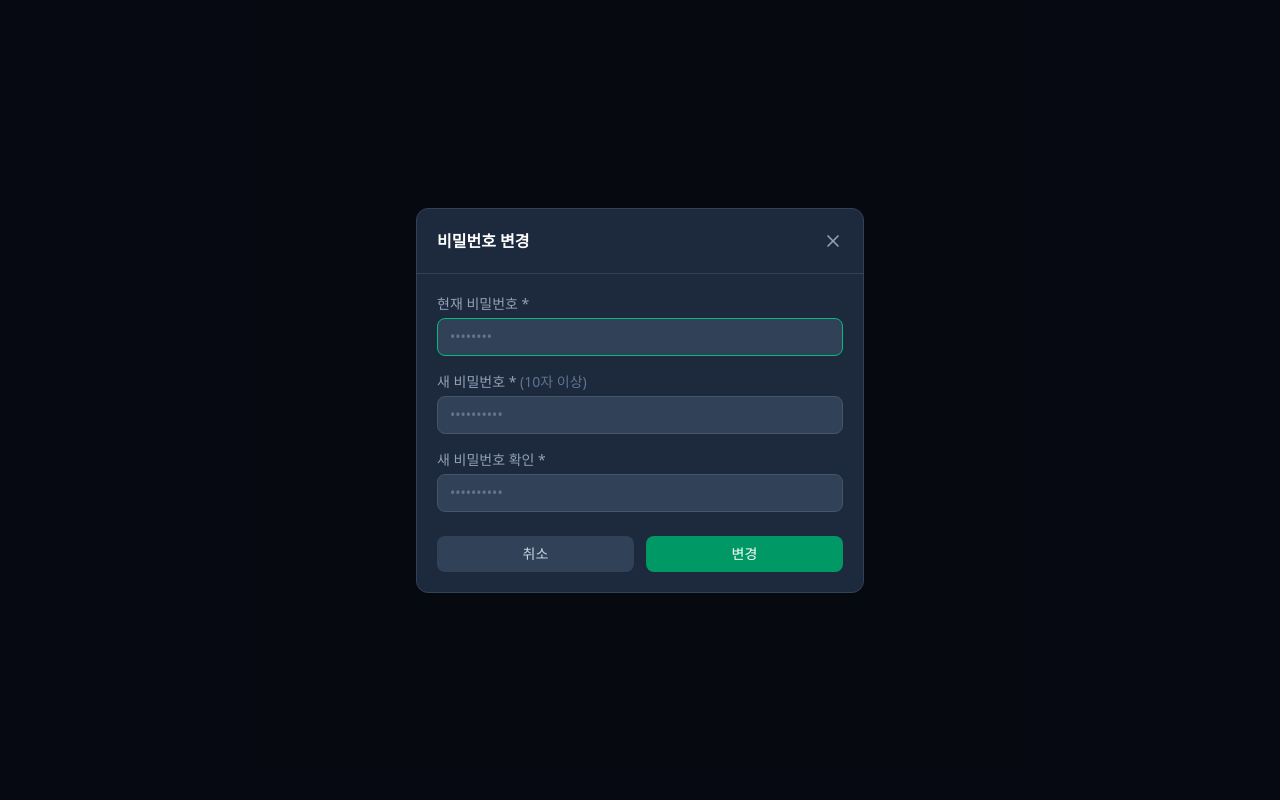
it: ChangePasswordModal › 클라이언트 검증 — 서버를 호출하기 전에 막는다 › 새 비밀번호가 10자 미만이면 요청하지 않는다
Type "admin1234" into the password field labelled "현재 비밀번호 *" at (640, 336), box [437,318,843,356]
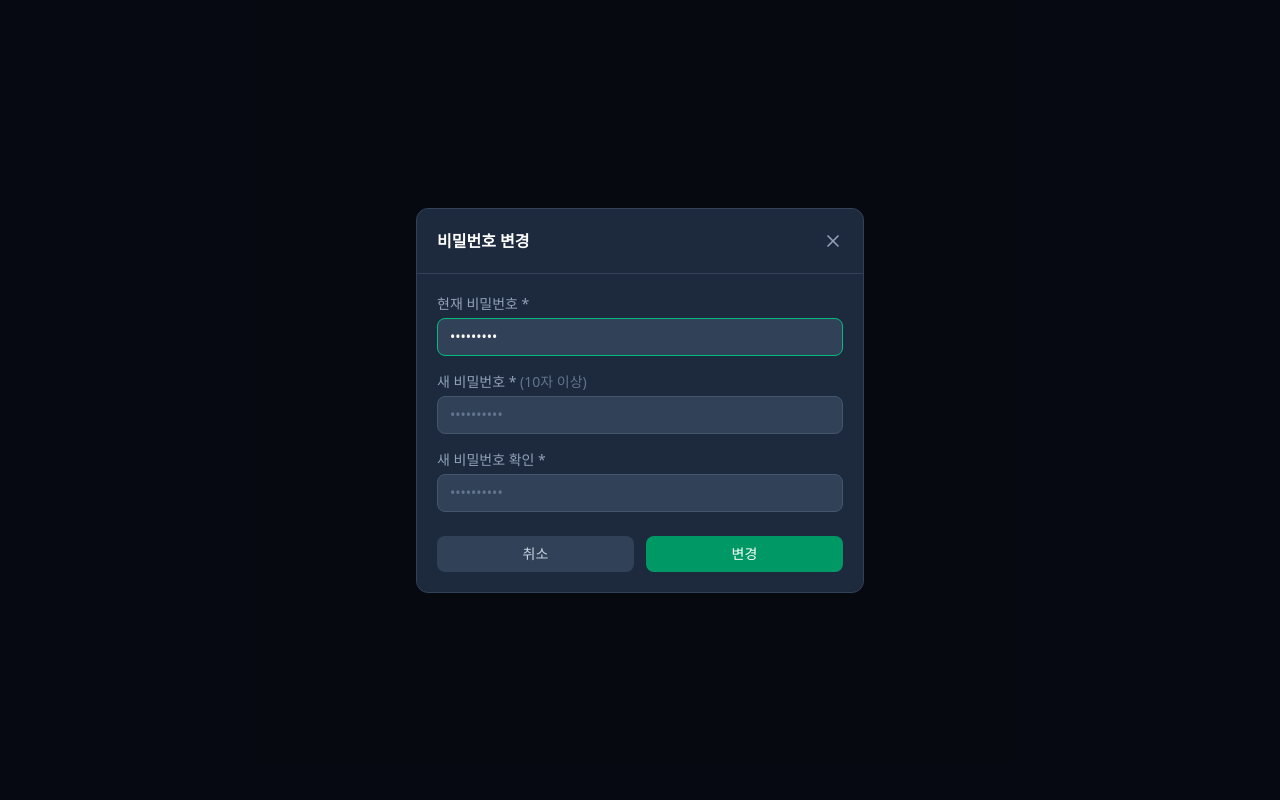
Type "short" into the password field labelled "새 비밀번호 * (10자 이상)" at (640, 414), box [437,396,843,434]
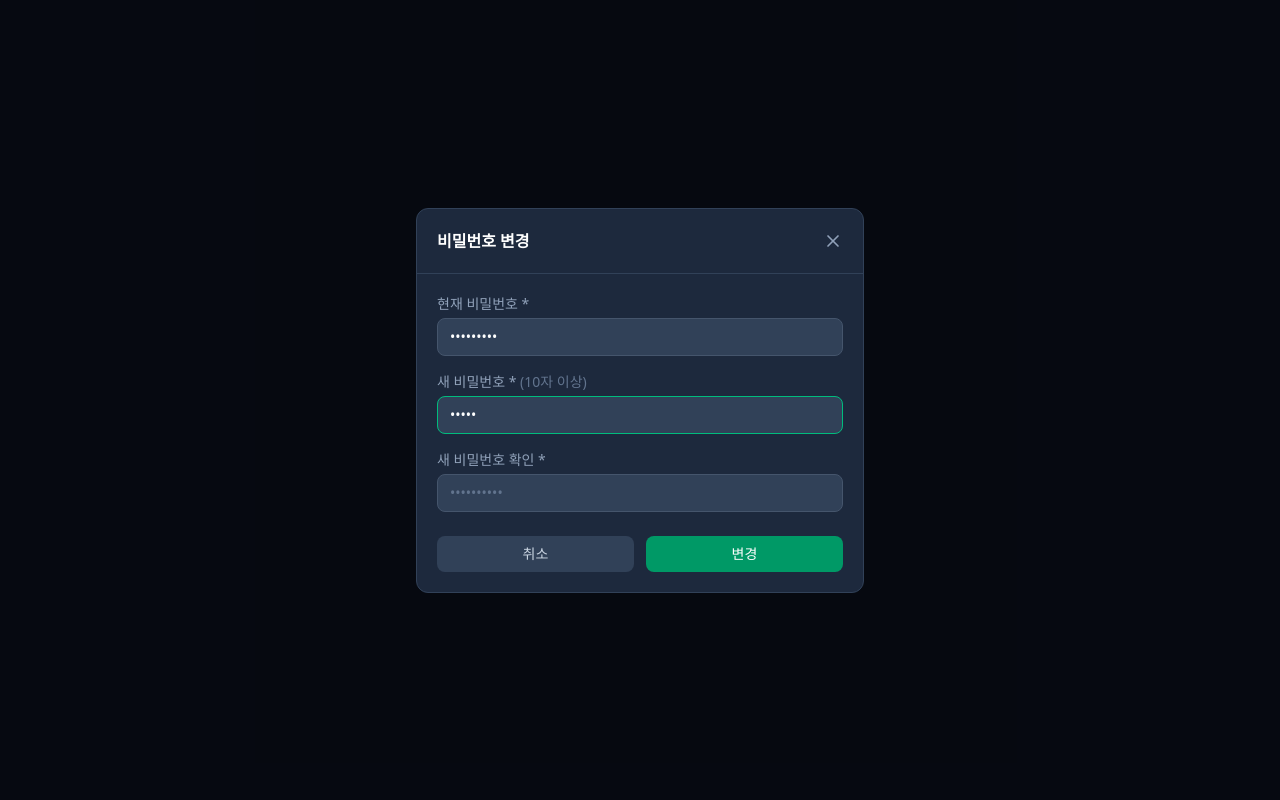
Type "short" into the password field labelled "새 비밀번호 확인 *" at (640, 492), box [437,474,843,512]
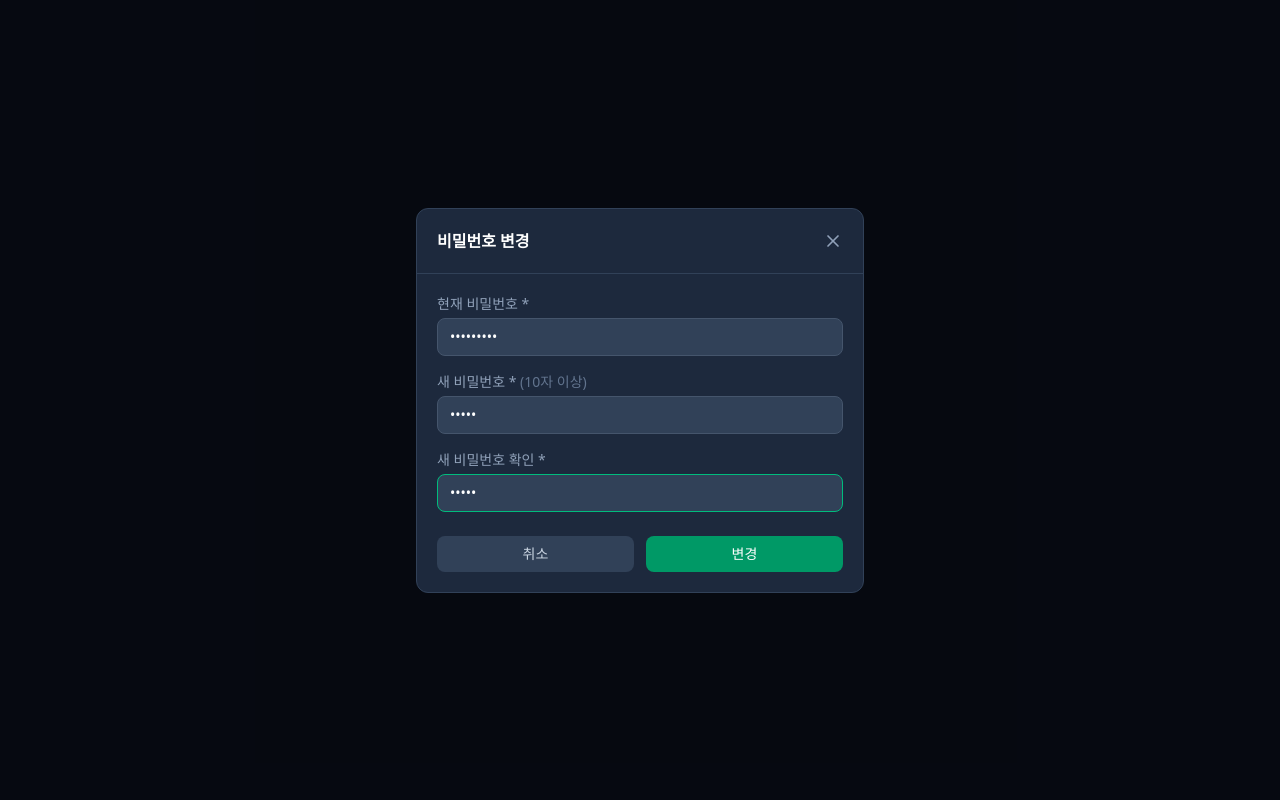
Click the button "변경" at (744, 554), box [646,536,843,572]
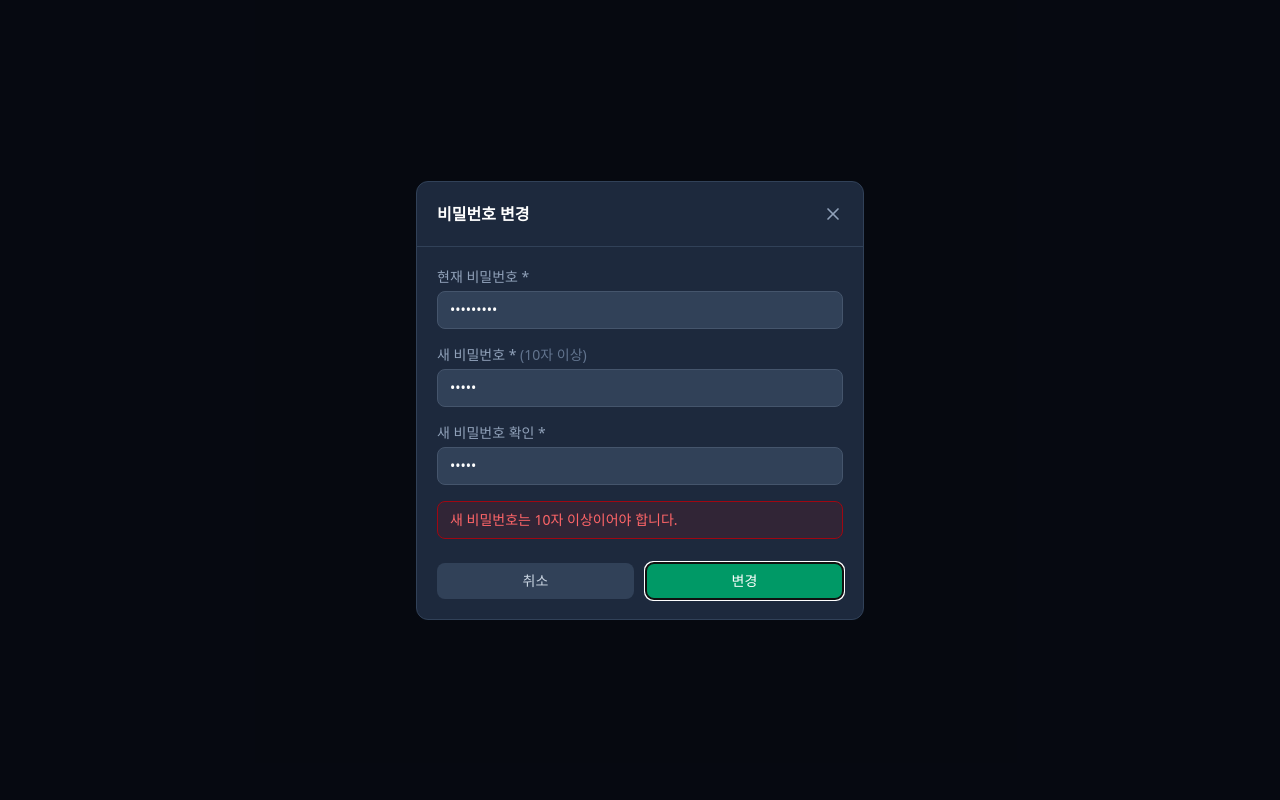
Now the text "새 비밀번호는 10자 이상이어야 합니다." is shown, box [437,500,843,538]
